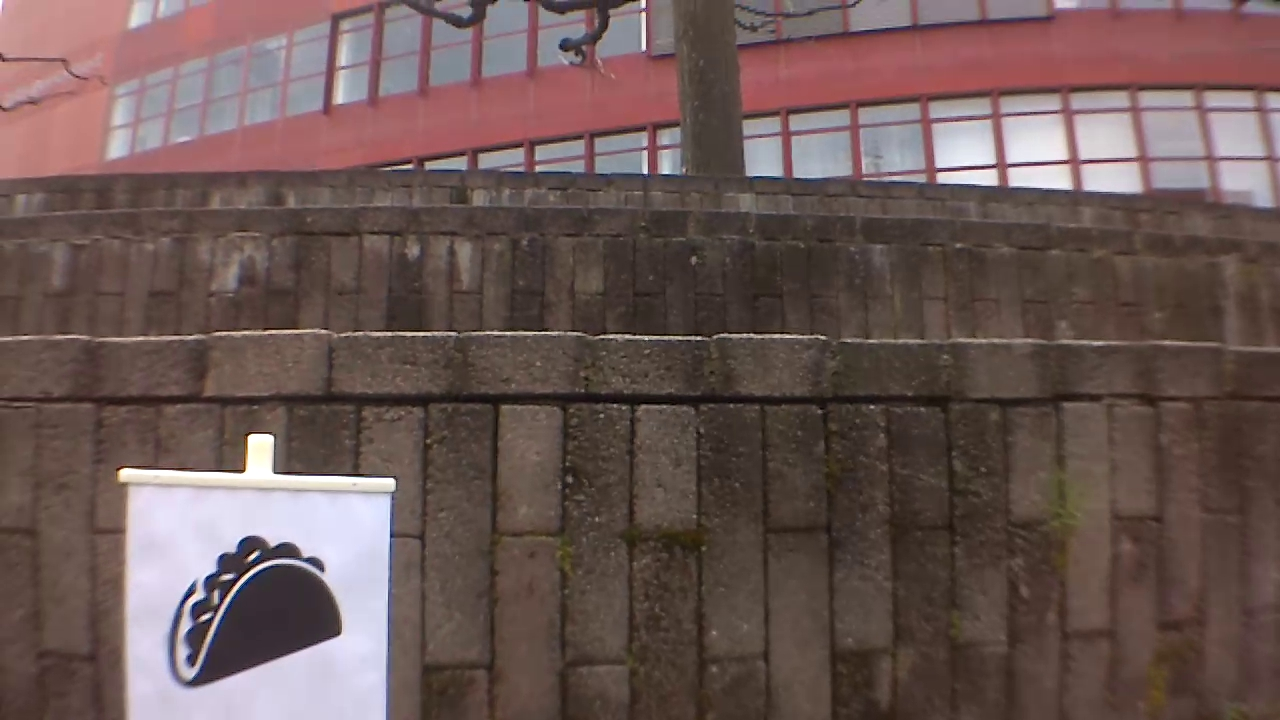taco: (153, 522, 354, 692)
